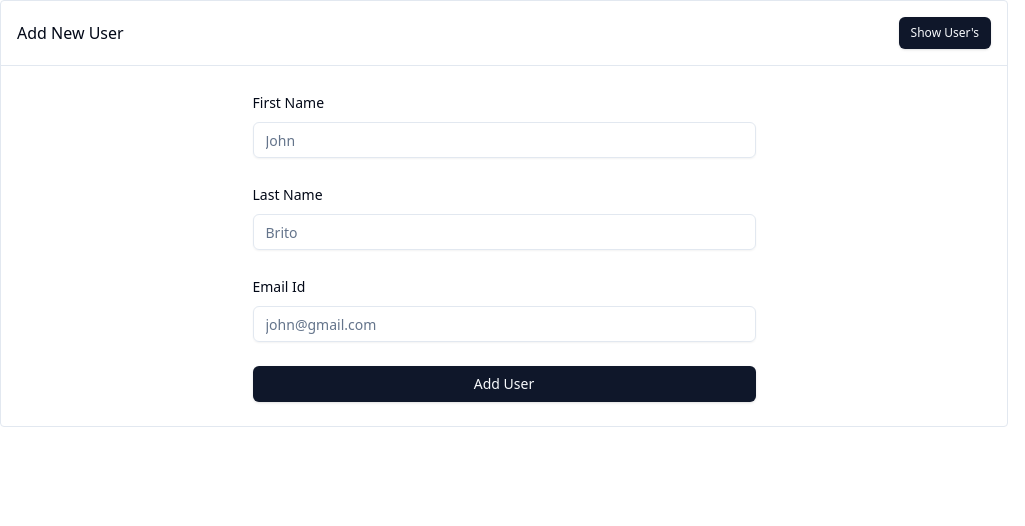
Test: Add User Page › should render correct error message when no data provided
This screenshot has width=1025, height=526.
What coordinates should you click on to do the following:
click the button "Add User"
I would click on:
 (504, 384)
Its box is [252,366,756,402].
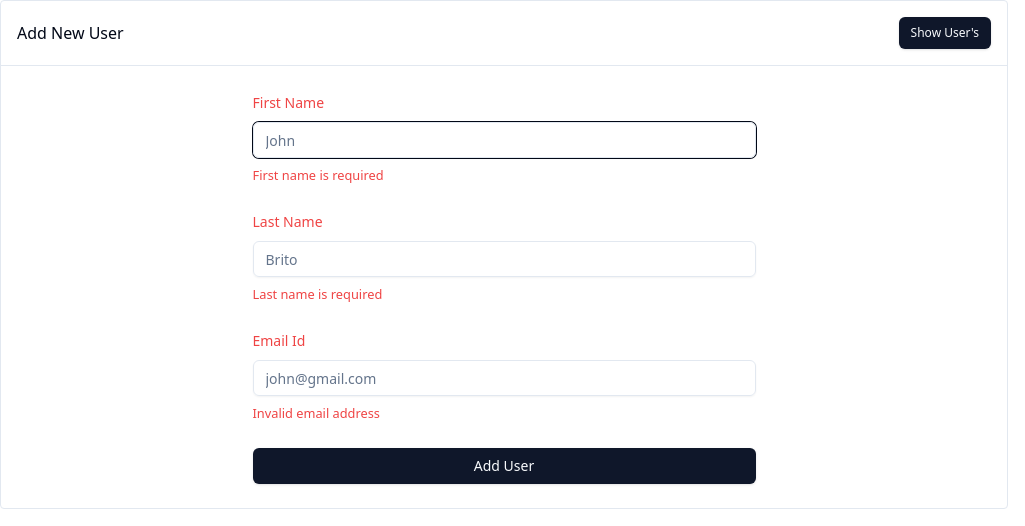
Now the text "First name is required" is shown, box [252,166,384,184]
Now the text "Last name is required" is shown, box [252,285,382,303]
Now the text "Invalid email address" is shown, box [252,404,380,422]
